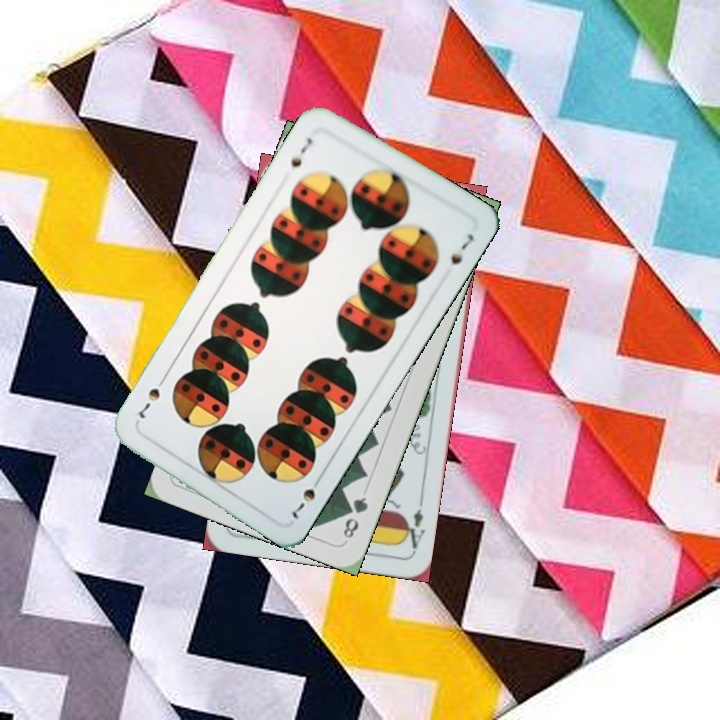EA: (399, 505, 428, 554)
G8: (339, 493, 371, 541)
S7: (287, 471, 325, 522), (286, 133, 316, 171)
